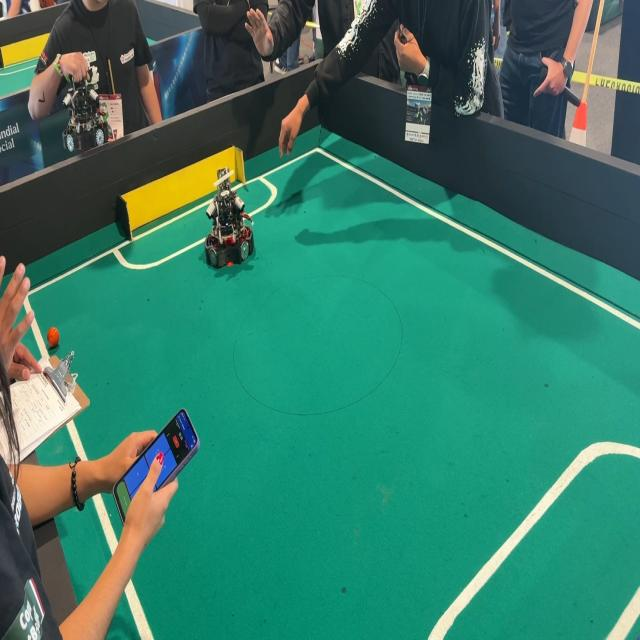Robot: (197, 159, 260, 275), (58, 66, 116, 154)
pelota: (45, 322, 64, 349)
